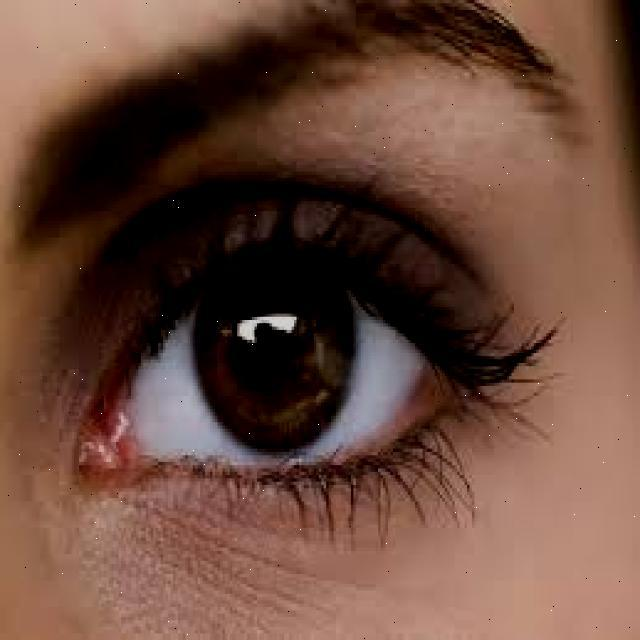Normal: (0, 154, 615, 631)
